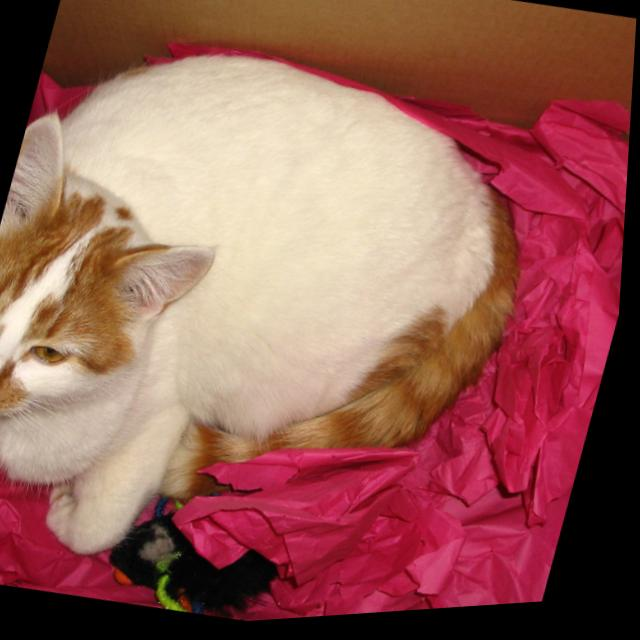animals: (0, 100, 245, 439)
